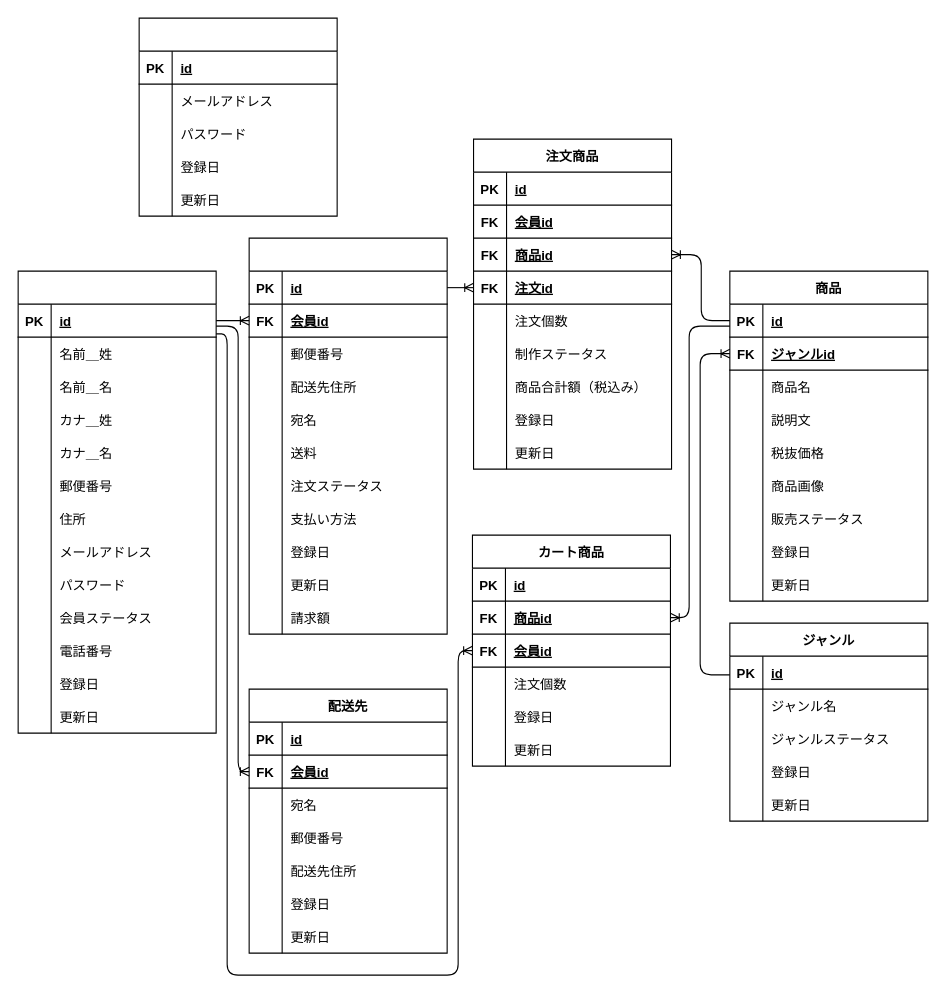
This 946x993 diagram has some shape labels left out. The shapes that lost their labels are listed below. From the top down, each one's box as (x1, y1, x2, y2) in pixels, then its label:
(138, 17, 337, 216): 管理者
(248, 237, 447, 634): 注文
(17, 270, 216, 733): 会員
